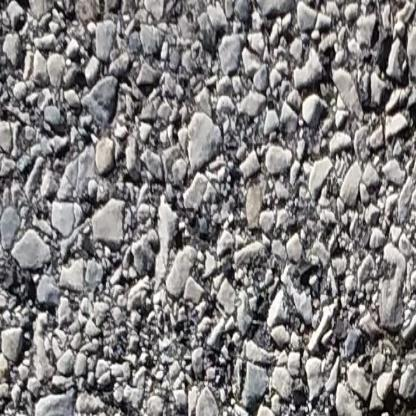Cracks: (319, 319, 416, 416)
